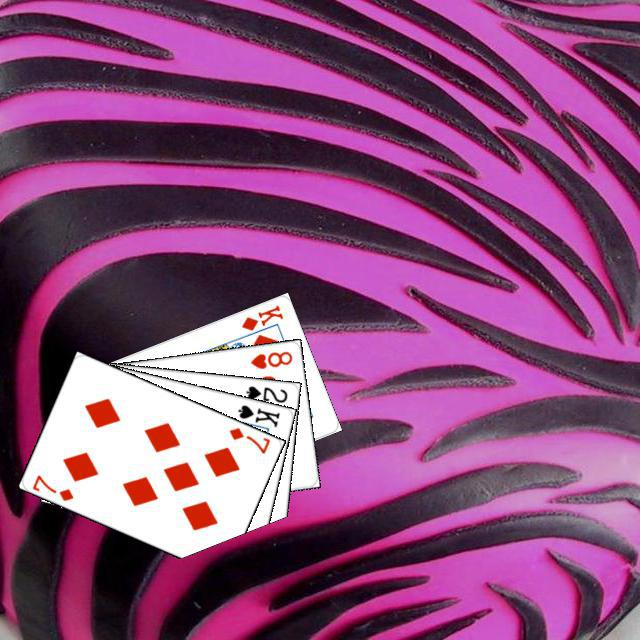2s: (241, 381, 289, 405)
7d: (224, 422, 271, 455), (28, 470, 75, 503)
8h: (246, 346, 294, 371)
Kd: (236, 300, 285, 332)
Ks: (233, 400, 281, 429)
